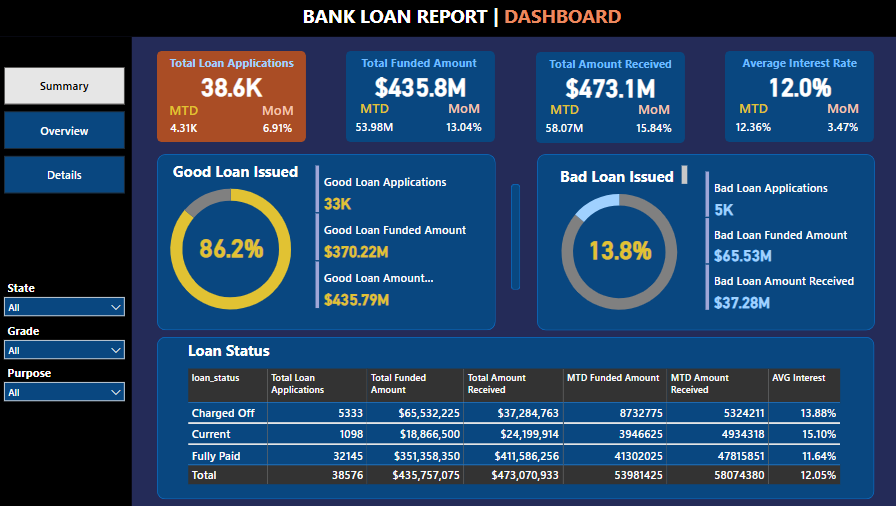

The page's visual inventory and layout, read from the dashboard file:
{"tool":"powerbi","page":{"name":"Summary","canvas":[1280,720],"ordinal":0},"visuals":[{"type":"shape","box":[0,0,1280,55],"z":0},{"type":"shape","box":[226.8,75.5,211.7,129.3],"z":0,"group":"g1"},{"type":"shape","box":[495.1,75.5,211.7,129.3],"z":0,"group":"g2"},{"type":"shape","box":[1031.8,75.5,211.7,129.3],"z":0,"group":"g4"},{"type":"shape","box":[763.5,76.4,211.7,129.3],"z":0,"group":"g3"},{"type":"shape","box":[226.1,221.7,480.5,250],"z":0,"group":"g5"},{"type":"shape","box":[765.1,221.7,479,250],"z":0,"group":"g6"},{"type":"shape","box":[0,55.3,191.3,664.7],"z":1000},{"type":"card","fields":{"Values":["financial_loan.Total Loan Applications"]},"box":[226.8,96.8,211.2,53.9],"z":1000,"group":"g1"},{"type":"card","fields":{"Values":["financial_loan.Total Funded Amount"]},"box":[495.1,96.8,211.2,53.9],"z":1000,"group":"g2"},{"type":"card","fields":{"Values":["financial_loan.AVG Interest"]},"box":[1031.8,96.8,211.2,53.9],"z":1000,"group":"g4"},{"type":"card","fields":{"Values":["financial_loan.Total Amount Received"]},"box":[763.5,97.7,211.2,53.9],"z":1000,"group":"g3"},{"type":"donutChart","fields":{"Category":["financial_loan.loan_status (groups)"],"Y":["financial_loan.Total Loan Applications"]},"box":[208.3,244.8,245.9,224.1],"z":1000,"group":"g5"},{"type":"donutChart","fields":{"Category":["financial_loan.loan_status (groups)"],"Y":["financial_loan.Total Loan Applications"]},"box":[756.7,252.4,250.9,215.4],"z":1000,"group":"g6"},{"type":"textbox","box":[428.3,1.7,475.4,48.7],"z":2000},{"type":"textbox","box":[226.8,75.5,211.7,38.6],"z":2000,"group":"g1"},{"type":"textbox","box":[495.1,75.5,211.7,38.6],"z":2000,"group":"g2"},{"type":"textbox","box":[1031.8,75.5,211.7,38.6],"z":2000,"group":"g4"},{"type":"textbox","box":[763.5,76.4,211.7,38.6],"z":2000,"group":"g3"},{"type":"cardVisual","fields":{"Data":["financial_loan.Bad Loan Total","financial_loan.Bad Loan Funded Amount","financial_loan.Bad Loan Amount Received"]},"box":[999.2,241.5,242.5,206.1],"z":2000,"group":"g6"},{"type":"card","fields":{"Values":["financial_loan.Good Loan %"]},"box":[228,326,208.2,52],"z":2000,"group":"g5"},{"type":"card","title":"MTD","fields":{"Values":["financial_loan.MTD Funded Amount"]},"box":[499.4,143.5,72.3,56.7],"z":3000,"group":"g2"},{"type":"card","title":"MTD","fields":{"Values":["financial_loan.MTD INT"]},"box":[1036.1,143.5,72.3,56.7],"z":3000,"group":"g4"},{"type":"card","title":"MTD","fields":{"Values":["financial_loan.MTD Amount Received"]},"box":[767.8,144.4,72.3,56.7],"z":3000,"group":"g3"},{"type":"card","title":"MTD","fields":{"Values":["financial_loan.MTD"]},"box":[235.2,146.1,58.8,53.8],"z":3000,"group":"g1"},{"type":"textbox","box":[239.4,225.3,196.7,39],"z":3000,"group":"g5"},{"type":"card","fields":{"Values":["financial_loan.Bad Loan %"]},"box":[776.8,330.5,212.4,50],"z":3000,"group":"g6"},{"type":"textbox","box":[10,393.3,68.3,38.3],"z":3000},{"type":"group","id":"g1","title":"Group 1","box":[226.8,75.5,211.2,129],"z":4000},{"type":"card","title":"MoM","fields":{"Values":["financial_loan.MoM Funded"]},"box":[624.1,143.5,76.5,56.7],"z":4000,"group":"g2"},{"type":"card","title":"MoM","fields":{"Values":["financial_loan.MoM INT"]},"box":[1160.8,143.5,76.5,56.7],"z":4000,"group":"g4"},{"type":"card","title":"MoM","fields":{"Values":["financial_loan.MoM Amount Received"]},"box":[892.5,144.4,76.5,56.7],"z":4000,"group":"g3"},{"type":"card","title":"MoM","fields":{"Values":["financial_loan.MoM Loan Application"]},"box":[367.9,146.1,58.8,53.8],"z":4000,"group":"g1"},{"type":"cardVisual","fields":{"Data":["financial_loan.Total Good Loan","financial_loan.Good Loan Funded Amount","financial_loan.Good Loan Amount Received"]},"box":[446,233.4,237.7,214.3],"z":4000,"group":"g5"},{"type":"textbox","box":[781.8,233.7,200.7,37.5],"z":4000,"group":"g6"},{"type":"group","id":"g2","title":"Group 1","box":[495.1,75.5,211.2,129],"z":5000},{"type":"group","id":"g3","title":"Group 1","box":[763.5,76.4,211.2,129],"z":6000},{"type":"shape","box":[226.7,480,1016.7,230],"z":7000},{"type":"textbox","box":[228.2,479.1,199.8,39.7],"z":8000},{"type":"group","id":"g4","title":"Group 1","box":[1031.8,75.5,211.2,129],"z":9000},{"type":"group","id":"g5","title":"Group 2","box":[208.3,221.7,498.3,250],"z":10000},{"type":"group","id":"g6","title":"Group 3","box":[756.7,221.7,486.7,250],"z":11000},{"type":"tableEx","fields":{"Values":["financial_loan.loan_status","financial_loan.Total Loan Applications","financial_loan.Total Funded Amount","financial_loan.Total Amount Received","financial_loan.MTD Funded Amount","financial_loan.MTD Amount Received","financial_loan.AVG Interest"]},"box":[265,520.2,959.5,178.6],"z":12000},{"type":"shape","box":[728.3,263.3,13.3,150],"z":13000},{"type":"slicer","fields":{"Values":["financial_loan.address_state"]},"box":[0,413.9,191.3,60.9],"z":14000},{"type":"slicer","fields":{"Values":["financial_loan.grade"]},"box":[0,474.8,191.3,59.5],"z":15000},{"type":"textbox","box":[9.9,455,68,39.7],"z":16000},{"type":"textbox","box":[9.9,514.5,86.5,38.3],"z":17000},{"type":"slicer","fields":{"Values":["financial_loan.purpose"]},"box":[0,534.3,191.3,59.5],"z":18000},{"type":"pageNavigator","box":[9.9,97.8,171.5,180],"z":19000}]}

Visuals, with their boxes in screenshot pixels (x1, y1, x2, y2), scaled from the page's 1280x720 canvas onto the 896x506 screenshot:
shape: 0/0/895/39
shape: 159/53/307/144
shape: 347/53/495/144
shape: 722/53/870/144
shape: 534/54/683/145
shape: 158/156/495/332
shape: 536/156/871/332
shape: 0/39/134/505
card - financial_loan.Total Loan Applications: 159/68/307/106
card - financial_loan.Total Funded Amount: 347/68/494/106
card - financial_loan.AVG Interest: 722/68/870/106
card - financial_loan.Total Amount Received: 534/69/682/107
donutChart - financial_loan.loan_status (groups) x financial_loan.Total Loan Applications: 146/172/318/330
donutChart - financial_loan.loan_status (groups) x financial_loan.Total Loan Applications: 530/177/705/329
textbox: 300/1/633/35
textbox: 159/53/307/80
textbox: 347/53/495/80
textbox: 722/53/870/80
textbox: 534/54/683/81
cardVisual - financial_loan.Bad Loan Total x financial_loan.Bad Loan Funded Amount: 699/170/869/315
card - financial_loan.Good Loan %: 160/229/305/266
"MTD" card: 350/101/400/141
"MTD" card: 725/101/776/141
"MTD" card: 537/101/588/141
"MTD" card: 165/103/206/140
textbox: 168/158/305/186
card - financial_loan.Bad Loan %: 544/232/692/267
textbox: 7/276/55/303
"Group 1" group: 159/53/307/144
"MoM" card: 437/101/490/141
"MoM" card: 813/101/866/141
"MoM" card: 625/101/678/141
"MoM" card: 258/103/299/140
cardVisual - financial_loan.Total Good Loan x financial_loan.Good Loan Funded Amount: 312/164/479/315
textbox: 547/164/688/191
"Group 1" group: 347/53/494/144
"Group 1" group: 534/54/682/144
shape: 159/337/870/499
textbox: 160/337/300/365
"Group 1" group: 722/53/870/144
"Group 2" group: 146/156/495/332
"Group 3" group: 530/156/870/332
tableEx - financial_loan.loan_status x financial_loan.Total Loan Applications: 186/366/857/491
shape: 510/185/519/290
slicer - financial_loan.address_state: 0/291/134/334
slicer - financial_loan.grade: 0/334/134/375
textbox: 7/320/55/348
textbox: 7/362/67/388
slicer - financial_loan.purpose: 0/375/134/417
pageNavigator: 7/69/127/195
